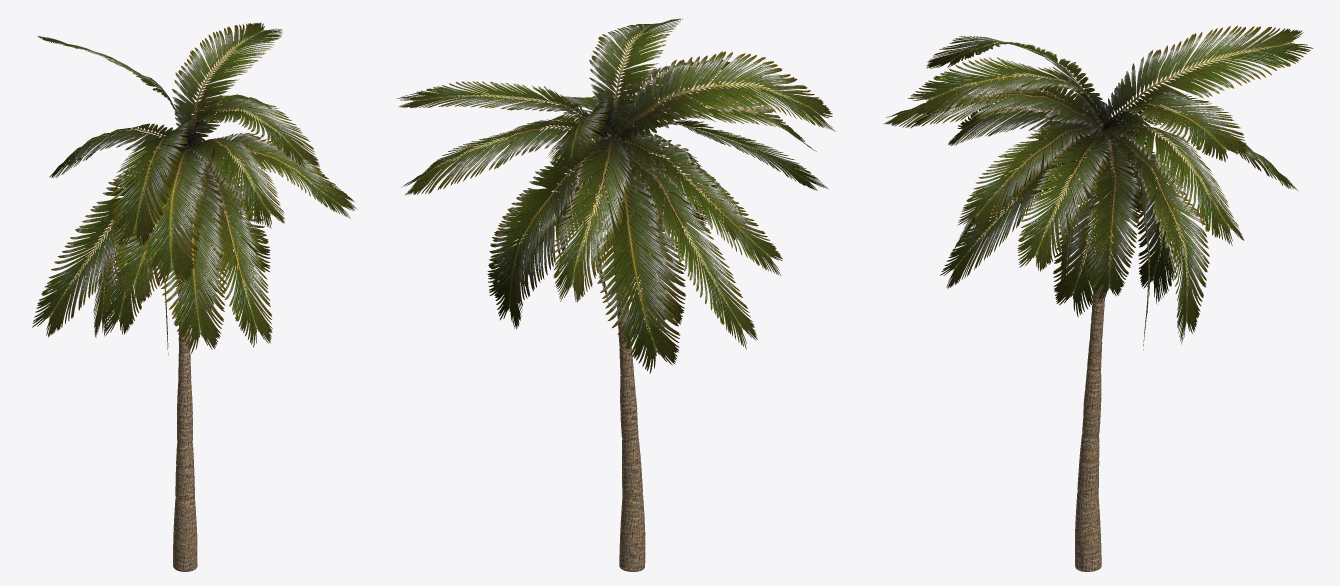
File: PalmTree2.glb
3 views of the same model, side by side, from view 1: azimuth 30°, elevation 25°; view 2: azimuth 150°, elevation 25°; view 3: azimuth 270°, elevation 25° (orthographic). The views are drawn at different scales.
Visible parts, largest first — view 1: figure-58.023_figure-58.090, figure-58.042_figure-58.107, figure-58.035_figure-58.100, figure-58.025_figure-58.092, figure-58.014_figure-58.088, figure-58.033_figure-58.098, Palm, figure-58.044_figure-58.109, figure-58.034_figure-58.099, figure-58.038_figure-58.103, figure-58.024_figure-58.091, figure-58.031_figure-58.097 (+6 smaller); view 2: figure-58.041_figure-58.106, figure-58.033_figure-58.098, figure-58.039_figure-58.104, figure-58.042_figure-58.107, figure-58.026_figure-58.093, figure-58.031_figure-58.097, figure-58.034_figure-58.099, Palm, figure-58.045_figure-58.110, figure-58.035_figure-58.100, figure-58.027_figure-58.094, figure-58.040_figure-58.105 (+6 smaller); view 3: figure-58.036_figure-58.101, figure-58.026_figure-58.093, figure-58.037_figure-58.102, figure-58.028_figure-58.095, Palm, figure-58.034_figure-58.099, figure-58.038_figure-58.103, figure-58.045_figure-58.110, figure-58.035_figure-58.100, figure-58.014_figure-58.088, figure-58.044_figure-58.109, figure-58.040_figure-58.105 (+6 smaller).
Boxes of the visible parts, x1,y1,x2,y2 form: figure-58.023_figure-58.090: (160, 146, 227, 353); figure-58.042_figure-58.107: (32, 148, 159, 337); figure-58.035_figure-58.100: (172, 22, 282, 144); figure-58.025_figure-58.092: (135, 148, 211, 286); figure-58.014_figure-58.088: (187, 151, 272, 347); figure-58.033_figure-58.098: (110, 120, 197, 248); Palm: (173, 274, 197, 571); figure-58.044_figure-58.109: (183, 138, 284, 228); figure-58.034_figure-58.099: (183, 96, 319, 168); figure-58.038_figure-58.103: (193, 133, 354, 218); figure-58.024_figure-58.091: (114, 146, 207, 304); figure-58.031_figure-58.097: (102, 145, 187, 335); figure-58.041_figure-58.106: (595, 133, 680, 373); figure-58.033_figure-58.098: (616, 51, 835, 141); figure-58.039_figure-58.104: (552, 139, 631, 302); figure-58.042_figure-58.107: (607, 143, 757, 349); figure-58.026_figure-58.093: (489, 140, 608, 329); figure-58.031_figure-58.097: (604, 134, 782, 275); figure-58.034_figure-58.099: (589, 18, 682, 143); Palm: (609, 156, 645, 571); figure-58.045_figure-58.110: (401, 119, 609, 194); figure-58.035_figure-58.100: (396, 81, 608, 139); figure-58.027_figure-58.094: (487, 133, 616, 303); figure-58.040_figure-58.105: (605, 133, 685, 330); figure-58.036_figure-58.101: (1100, 25, 1313, 132); figure-58.026_figure-58.093: (1102, 131, 1209, 344); figure-58.037_figure-58.102: (1017, 137, 1111, 271); figure-58.028_figure-58.095: (1084, 123, 1140, 303); Palm: (1075, 134, 1115, 571); figure-58.034_figure-58.099: (908, 57, 1111, 133); figure-58.038_figure-58.103: (957, 122, 1102, 231); figure-58.045_figure-58.110: (1100, 124, 1243, 245); figure-58.035_figure-58.100: (1103, 90, 1246, 161); figure-58.014_figure-58.088: (940, 125, 1103, 288); figure-58.044_figure-58.109: (884, 92, 1102, 131); figure-58.040_figure-58.105: (1052, 130, 1134, 317).
Bounding box in the file's own units: 18.06 × 25.88 × 20.33.
Materials: 2 (2 with a texture image).
